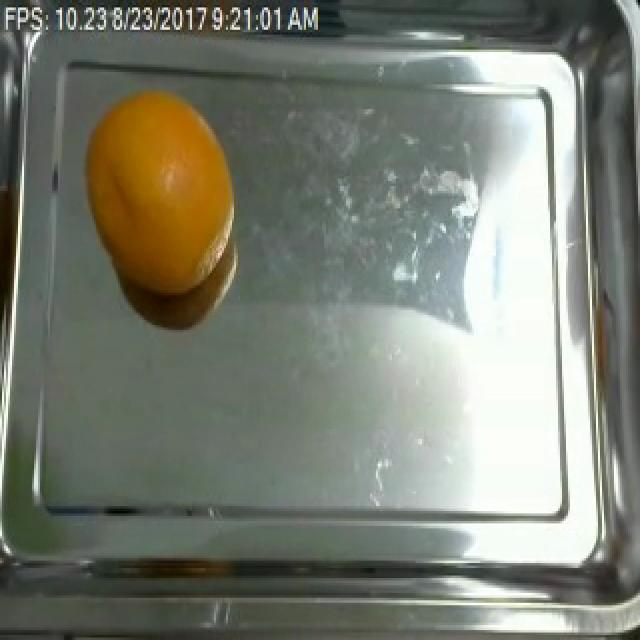Fruit: (72, 81, 242, 302)
